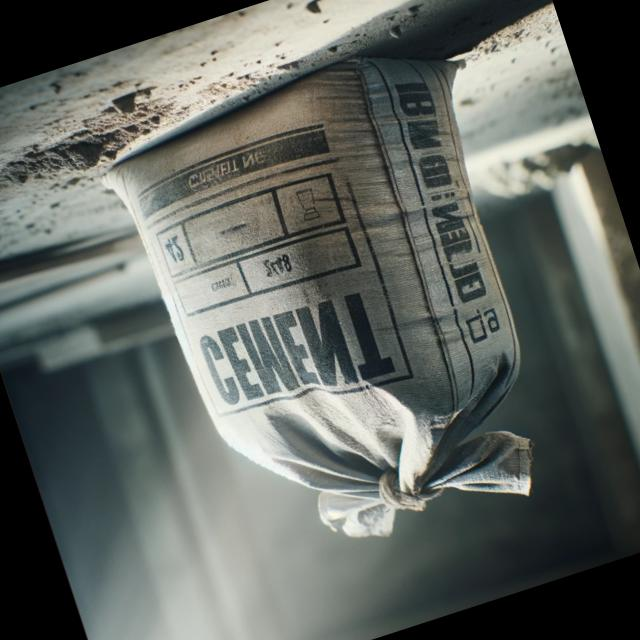KantongSemen: (87, 24, 598, 594)
